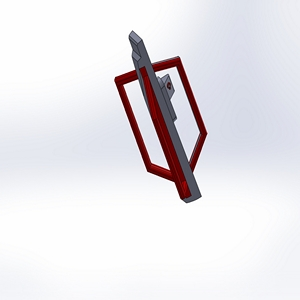submarine: (94, 25, 232, 215)
